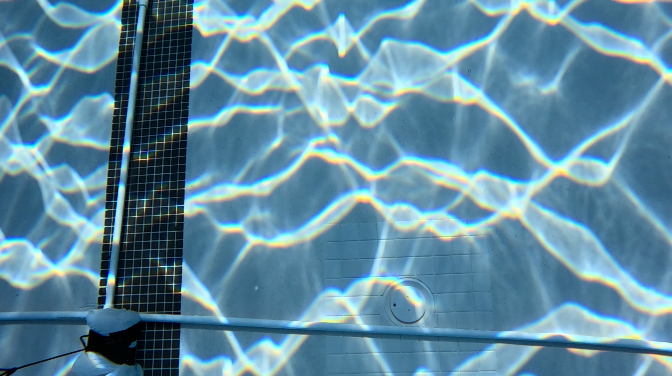sandbag: (50, 309, 145, 375)
